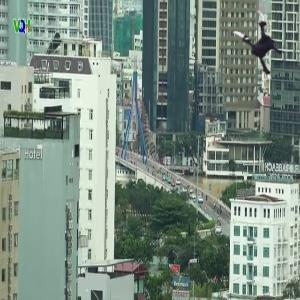drone: (220, 9, 295, 84)
